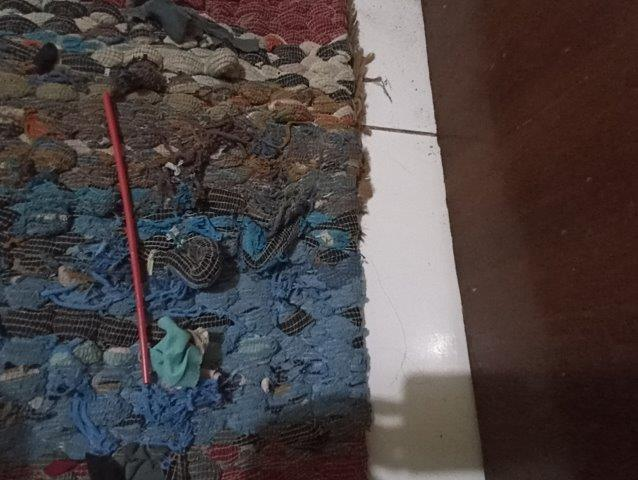sedotan: (103, 95, 151, 382)
